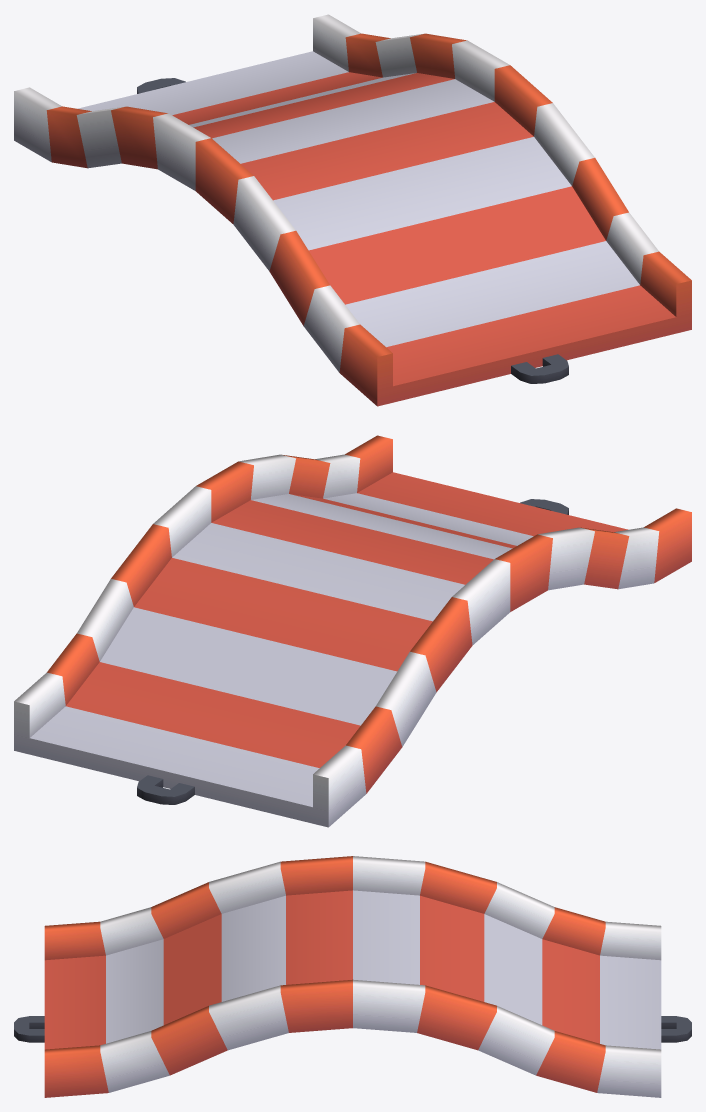
File: track-striped-wide-straight-bump-up.glb
The picture shows the model from 3 angles, top to bottom: view 1: azimuth 30°, elevation 25°; view 2: azimuth 150°, elevation 25°; view 3: azimuth 270°, elevation 25°; orthographic projection. The views are drawn at different scales.
Parts seen in each view (by area): view 1: track-striped-wide-straight-bump-up; view 2: track-striped-wide-straight-bump-up; view 3: track-striped-wide-straight-bump-up.
Boxes of the visible parts, box(x1,y1,x2,y2) form: track-striped-wide-straight-bump-up: box(14, 14, 691, 406); track-striped-wide-straight-bump-up: box(14, 435, 691, 827); track-striped-wide-straight-bump-up: box(14, 856, 691, 1097).
Size of the model in its own units: 2 by 0.7998 by 4.4.
Materials: 1 (1 with a texture image).
